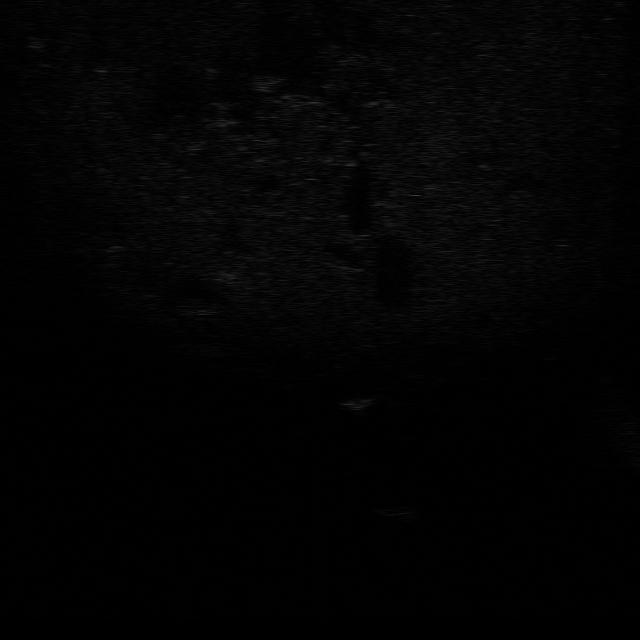cube: (375, 502, 419, 524)
square cage: (336, 392, 385, 418)
